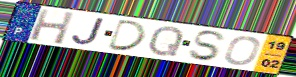D: (105, 18, 149, 53)
H: (28, 7, 76, 46)
J: (71, 17, 107, 46)
O: (222, 35, 263, 66)
Q: (146, 25, 186, 57)
S: (187, 30, 228, 63)
